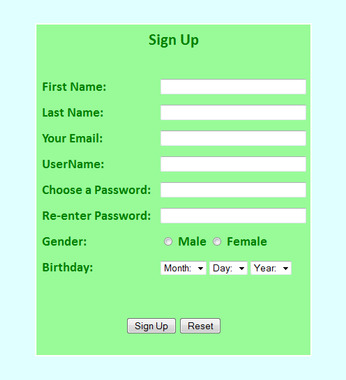_form_: (25, 18, 312, 344)
button: (127, 318, 177, 333), (180, 318, 221, 334)
field: (157, 79, 306, 96), (157, 180, 306, 197), (157, 103, 305, 120), (157, 129, 305, 146), (158, 155, 306, 172), (158, 207, 306, 223), (160, 260, 207, 275), (209, 260, 247, 275), (251, 261, 291, 275)
field_with_label: (42, 76, 307, 97), (41, 101, 307, 121), (41, 179, 307, 198), (41, 128, 306, 147), (42, 154, 307, 173), (43, 206, 307, 224), (43, 259, 208, 276)
radio: (164, 235, 174, 247), (212, 235, 222, 247)
radio_with_label: (210, 233, 267, 249), (162, 234, 206, 248)
